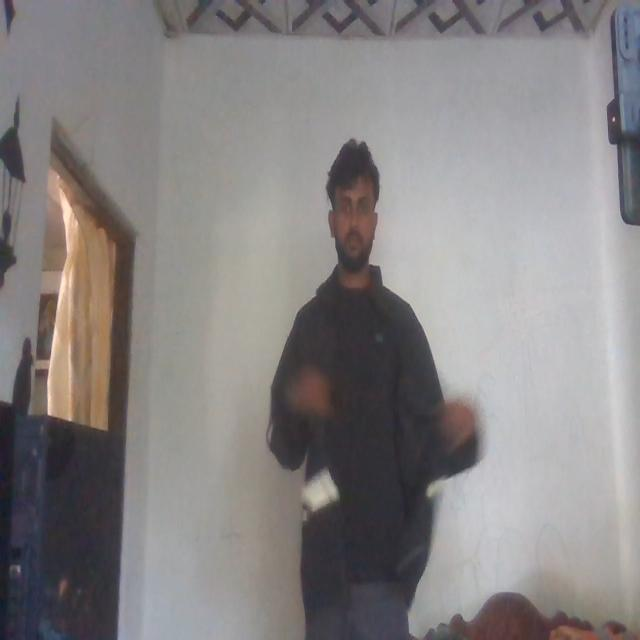Jacket_Wearer: (274, 269, 454, 583)
Person: (270, 134, 462, 640)
